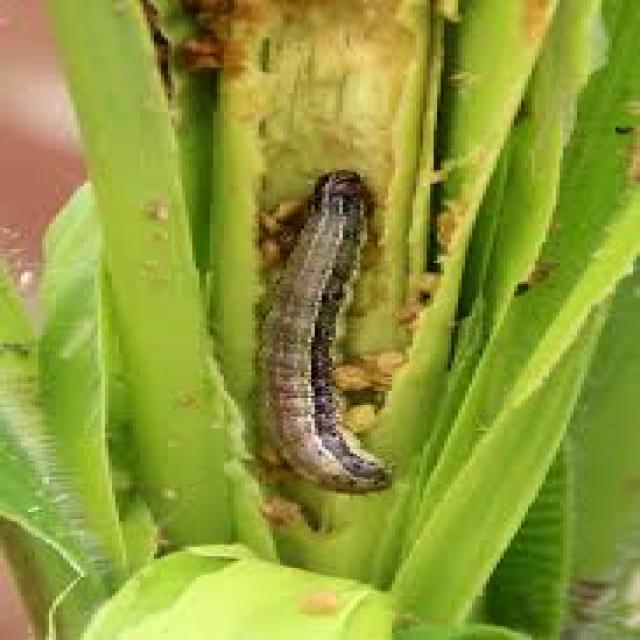Army Worm: (251, 166, 413, 498)
